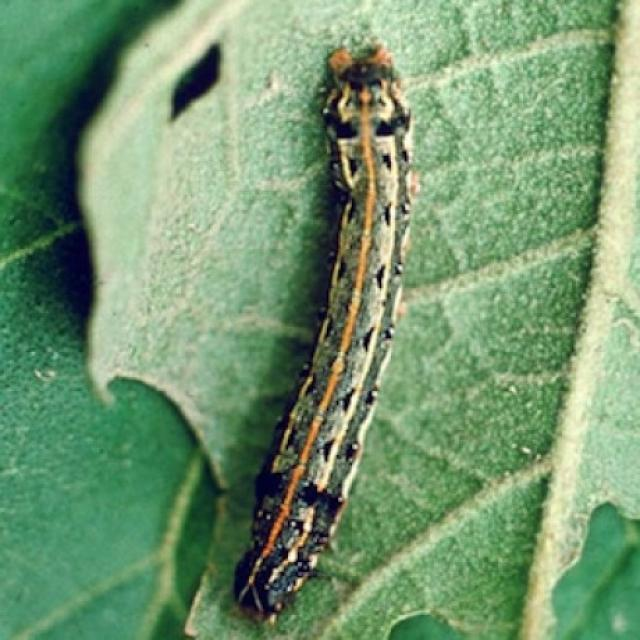armyworm: (230, 38, 418, 623)
